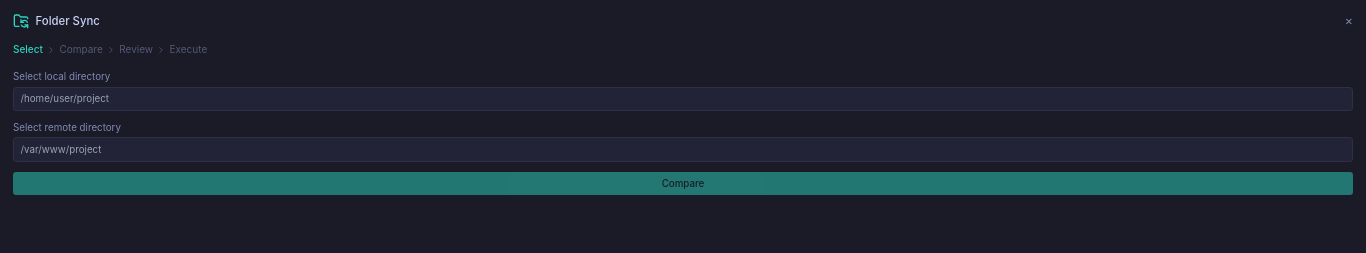
Scenario: FolderSyncWizard › shows an error when comparison fails
This screenshot has width=1366, height=253.
Type "/a" into the field with placeholder "/home/user/project".
click(683, 99); type("/a")  # box 13,86 -> 1353,111
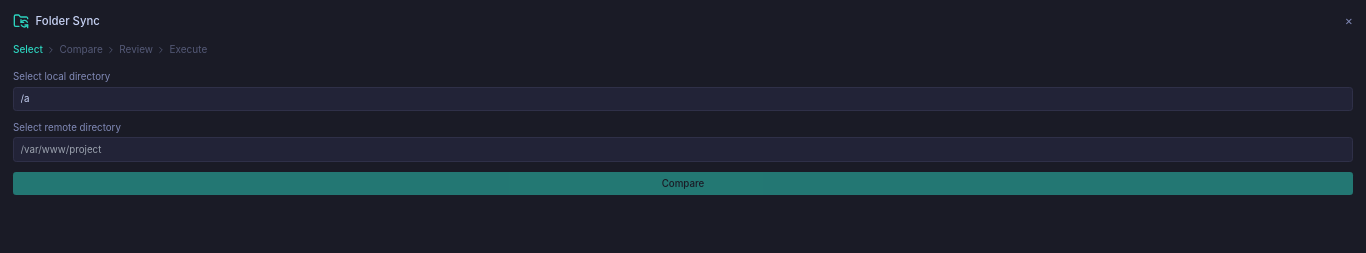
Type "/b" into the field with placeholder "/var/www/project".
click(683, 150); type("/b")  # box 13,137 -> 1353,162
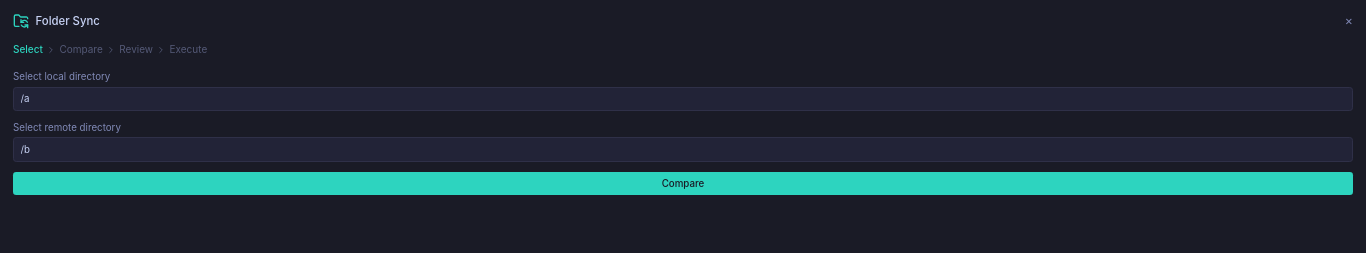
Click the button "Compare".
click(683, 183)  # box 13,172 -> 1353,195
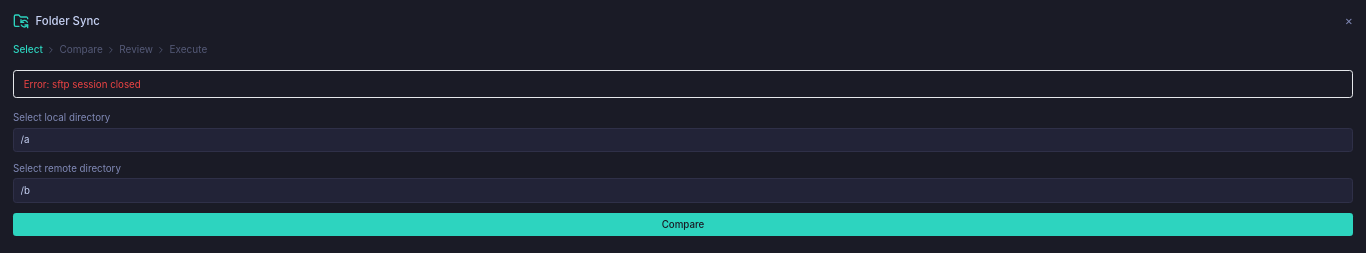
Expected: the text "Error: sftp session closed" is shown, 13,70 -> 1353,98
